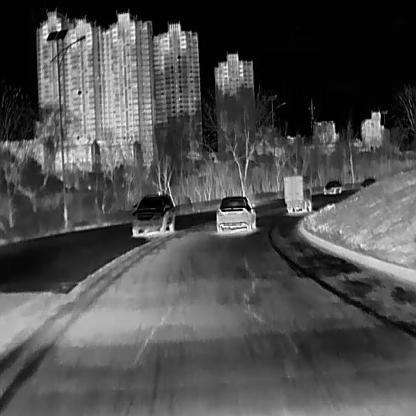car: (131, 192, 176, 235), (215, 194, 256, 234), (322, 180, 341, 194), (360, 176, 376, 190)
truck: (283, 173, 312, 212)
